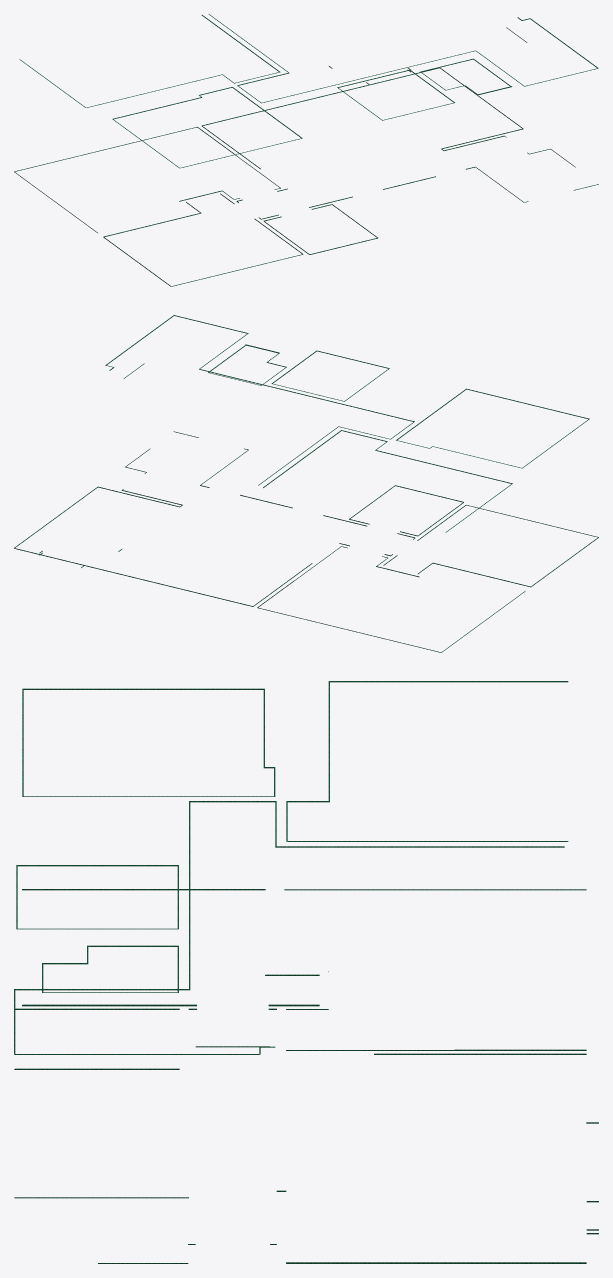
3 renders of one model, top to bottom at view 1: azimuth 30°, elevation 25°; view 2: azimuth 150°, elevation 25°; view 3: azimuth 270°, elevation 25°, orthographic. The views are drawn at different scales.
Size of the model in its own units: 10 by 2.61 by 6.62.
1 material, 1 textured.
